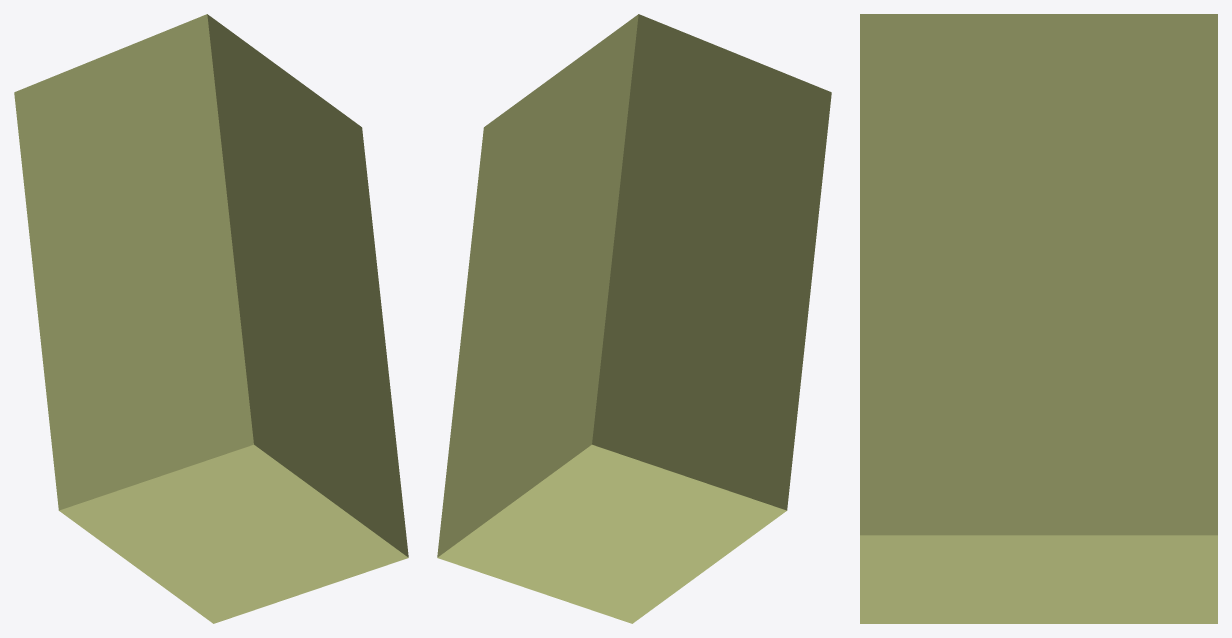
The picture shows the model from 3 angles, left to right: view 1: azimuth 30°, elevation 25°; view 2: azimuth 150°, elevation 25°; view 3: azimuth 270°, elevation 25°; orthographic projection. The views are drawn at different scales.
Parts seen in each view (by area): view 1: 0_1_0_2_1_2_3_0_3_1_3; view 2: 0_1_0_2_1_2_3_0_3_1_3; view 3: 0_1_0_2_1_2_3_0_3_1_3.
Part boxes in pixels (<box>): 0_1_0_2_1_2_3_0_3_1_3: <box>14,14,408,623</box>; 0_1_0_2_1_2_3_0_3_1_3: <box>437,14,831,623</box>; 0_1_0_2_1_2_3_0_3_1_3: <box>860,14,1217,623</box>.
Bounding box in the file's own units: 5.37 × 9.85 × 6.
